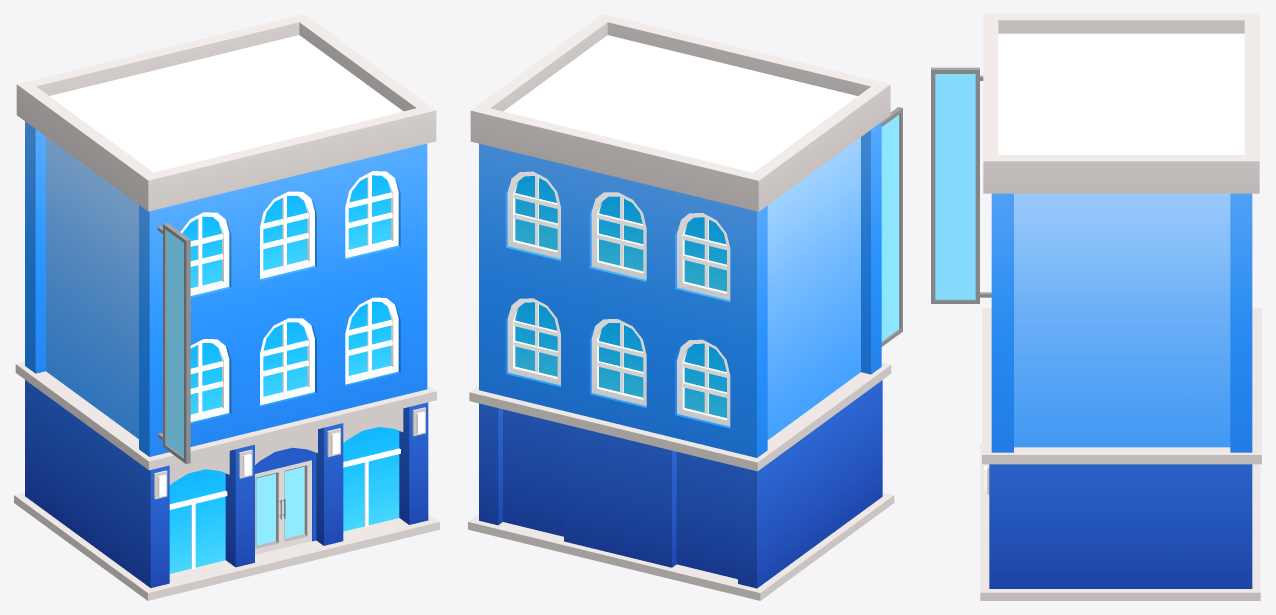
File: city2-building-hotel-05.glb
The picture shows the model from 3 angles, left to right: view 1: azimuth 30°, elevation 25°; view 2: azimuth 150°, elevation 25°; view 3: azimuth 270°, elevation 25°; orthographic projection. The views are drawn at different scales.
Visible parts, largest first — view 1: Building_Hotel_05; view 2: Building_Hotel_05; view 3: Building_Hotel_05.
Boxes of the visible parts, x1,y1,x2,y2 form: Building_Hotel_05: (14,14,439,600); Building_Hotel_05: (468,14,902,600); Building_Hotel_05: (931,14,1261,600).
Size of the model in its own units: 8.22 by 11.26 by 7.7.
1 material, 1 textured.
